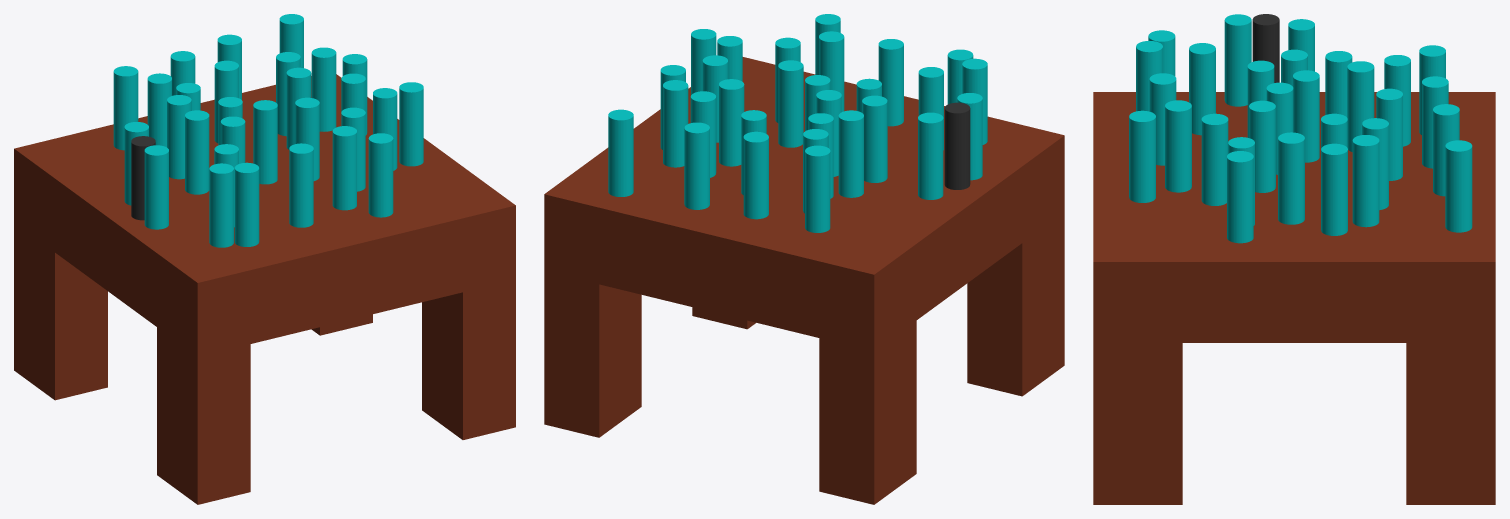
Rendered from can_world_30_cans.dae.
3 renders of one model, left to right at view 1: azimuth 30°, elevation 25°; view 2: azimuth 150°, elevation 25°; view 3: azimuth 270°, elevation 25°, orthographic. The views are drawn at different scales.
Parts seen in each view (by area): view 1: base (×33); view 2: base (×34); view 3: base (×33).
Boxes of the visible parts, left/top/right/bottom form: base (×33): left=14, top=14, right=515, bottom=504; base (×34): left=544, top=14, right=1064, bottom=504; base (×33): left=1093, top=14, right=1495, bottom=504.
Bounding box in the file's own units: 0.9 × 0.9 × 0.811.
